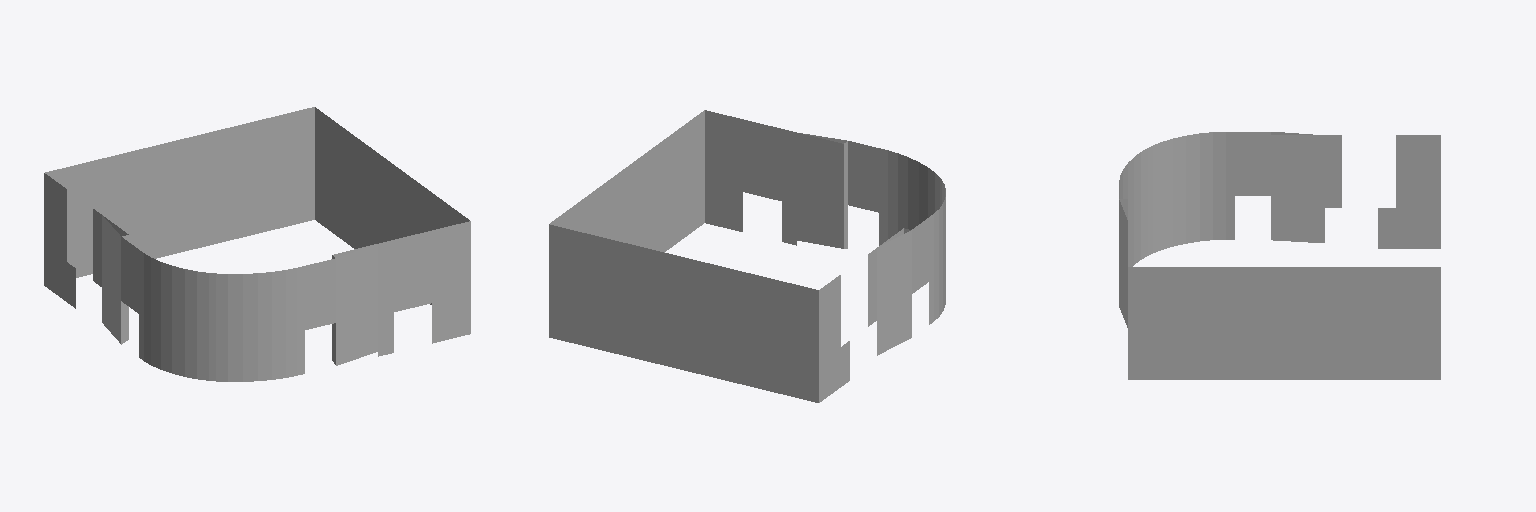
Rendered from BallroomWalls.obj.
The picture shows the model from 3 angles: view 1: azimuth 30°, elevation 25°; view 2: azimuth 150°, elevation 25°; view 3: azimuth 270°, elevation 25°; orthographic projection.
Parts seen in each view (by area): view 1: Plane.000_Plane.001; view 2: Plane.000_Plane.001; view 3: Plane.000_Plane.001.
Boxes of the visible parts, <box> form: Plane.000_Plane.001: <box>44,107,470,381</box>; Plane.000_Plane.001: <box>549,110,945,402</box>; Plane.000_Plane.001: <box>1119,132,1440,379</box>.
Size of the model in its own units: 36 by 14 by 36.